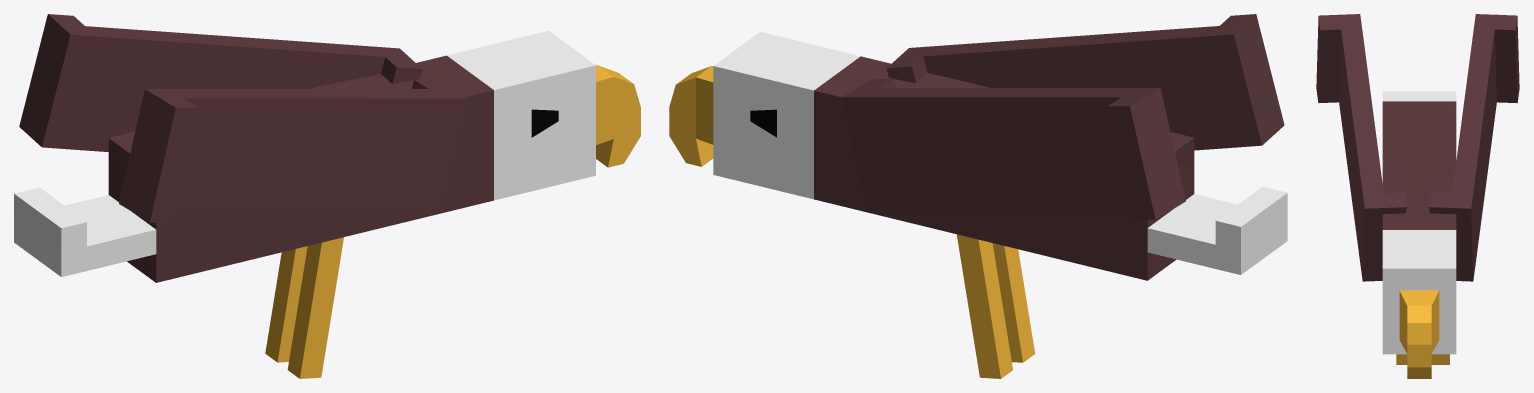
File: eaglestay.FBX
3 views of the same model, side by side, from view 1: azimuth 30°, elevation 25°; view 2: azimuth 150°, elevation 25°; view 3: azimuth 270°, elevation 25° (orthographic). The views are drawn at different scales.
Parts seen in each view (by area): view 1: eaglestay; view 2: eaglestay; view 3: eaglestay.
Part boxes in pixels (box(x1,y1,x2,y2)): eaglestay: box(14, 14, 640, 378); eaglestay: box(669, 14, 1287, 378); eaglestay: box(1316, 14, 1519, 378).
Bounding box in the file's own units: 190 × 108 × 72.12.
